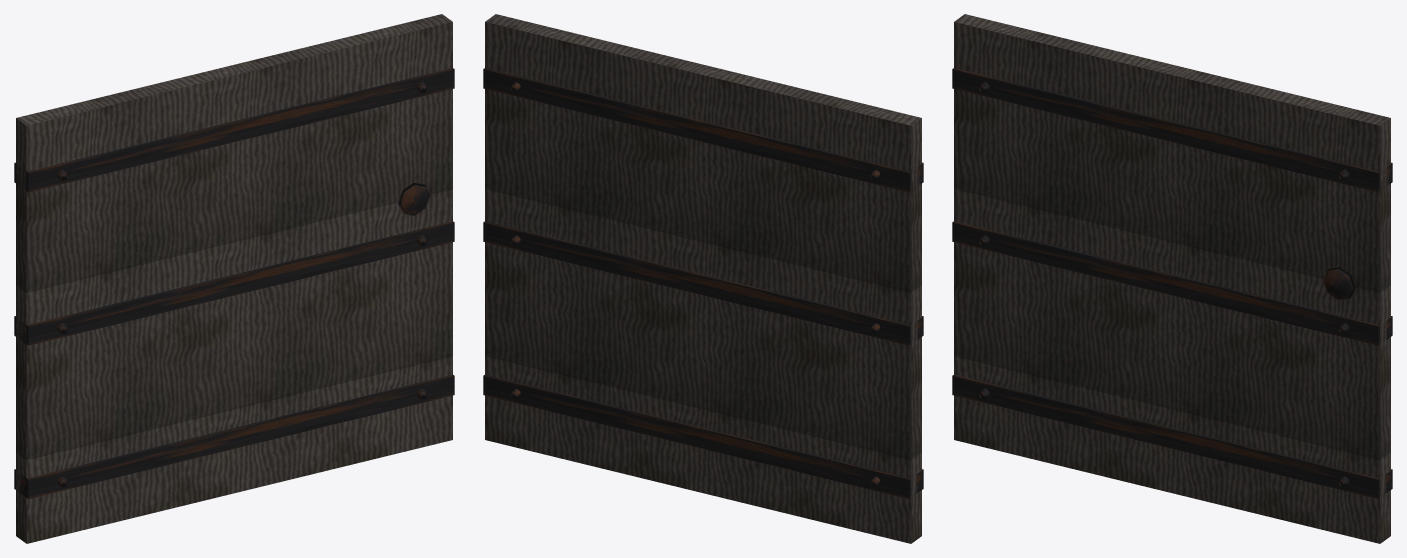
File: tower_gate.glb
3 views of the same model, side by side, from view 1: azimuth 30°, elevation 25°; view 2: azimuth 150°, elevation 25°; view 3: azimuth 330°, elevation 25° (orthographic).
Visible parts, largest first — view 1: tower_gate; view 2: tower_gate; view 3: tower_gate.
Boxes of the visible parts, x1,y1,x2,y2 form: tower_gate: (14,14,454,543); tower_gate: (483,14,923,543); tower_gate: (952,14,1392,543).
Bounding box in the file's own units: 3.2 × 3 × 0.2659.
Materials: 2 (2 with a texture image).
